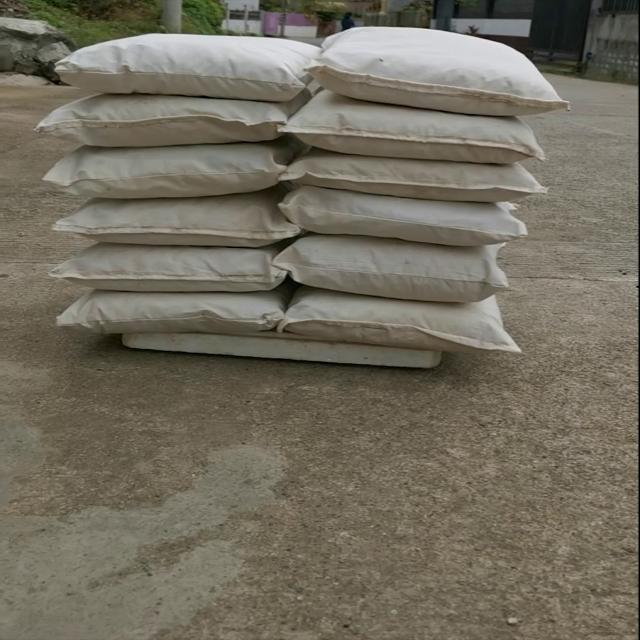Sack: (321, 23, 580, 118), (283, 92, 556, 171), (55, 32, 316, 102), (273, 190, 544, 256), (279, 235, 525, 307), (41, 136, 291, 202), (41, 85, 281, 151), (283, 150, 554, 208), (52, 233, 283, 301), (44, 281, 285, 345), (280, 290, 530, 350), (50, 191, 294, 246)
